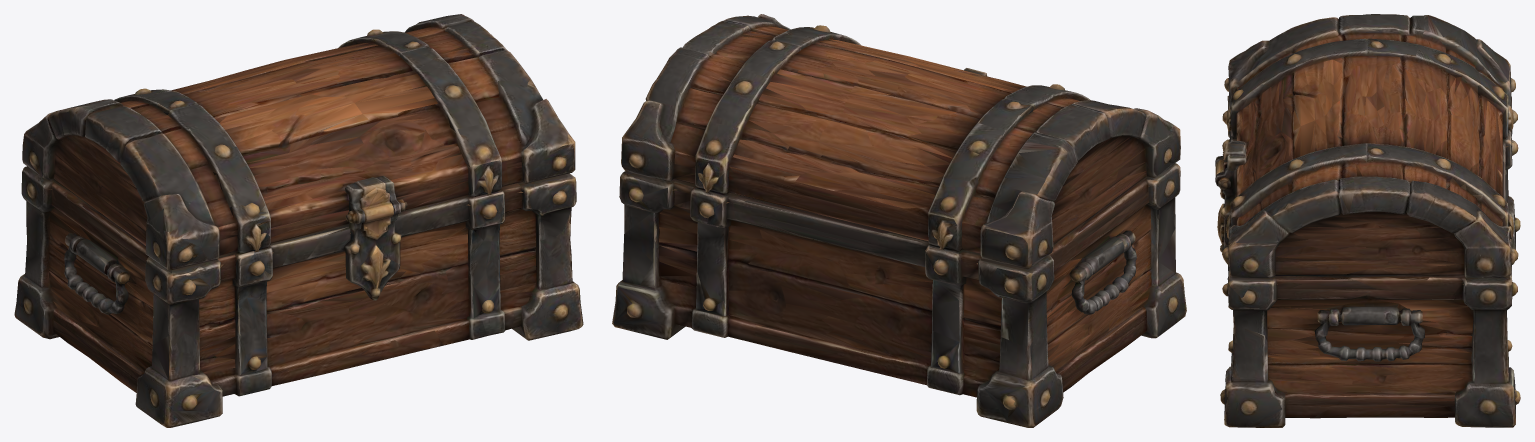
Rendered from chest.glb.
The picture shows the model from 3 angles, left to right: view 1: azimuth 30°, elevation 25°; view 2: azimuth 150°, elevation 25°; view 3: azimuth 270°, elevation 25°; orthographic projection. The views are drawn at different scales.
Parts seen in each view (by area): view 1: chest-lid-shell, chest-body; view 2: chest-lid-shell, chest-body; view 3: chest-lid-shell, chest-body.
Part boxes in pixels (x1,y1,x2,y2): chest-lid-shell: [22, 14, 575, 280]; chest-body: [14, 173, 583, 427]; chest-lid-shell: [620, 14, 1180, 278]; chest-body: [612, 170, 1186, 427]; chest-lid-shell: [1215, 14, 1515, 286]; chest-body: [1217, 109, 1520, 427].
Size of the model in its own units: 1.72 by 0.9676 by 1.13.
2 materials, 1 textured.
